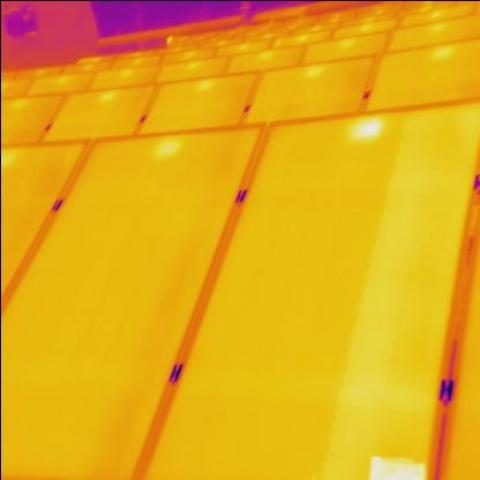fault: (370, 456, 421, 479), (350, 119, 373, 141)
